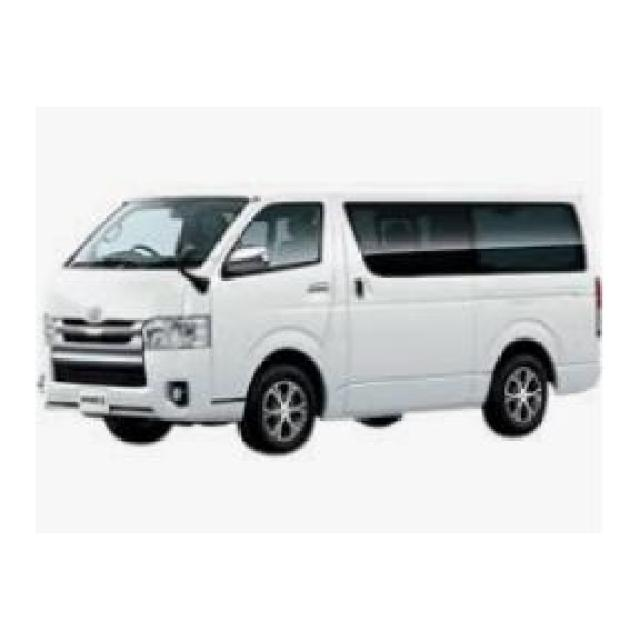Van: (44, 186, 603, 450)
